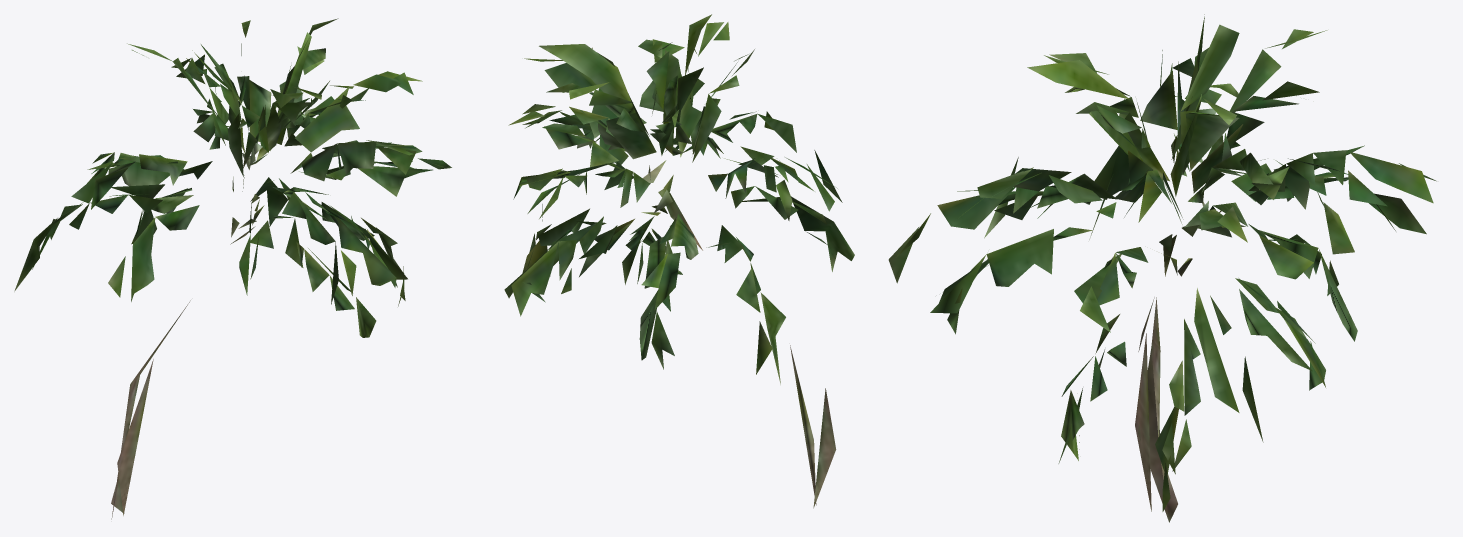
Rendered from kueste_palme_lo.glb.
3 renders of one model, left to right at view 1: azimuth 30°, elevation 25°; view 2: azimuth 150°, elevation 25°; view 3: azimuth 270°, elevation 25°, orthographic. The views are drawn at different scales.
Parts seen in each view (by area): view 1: Prop; view 2: Prop; view 3: Prop.
Boxes of the visible parts, <box> form: Prop: <box>14,18,451,519</box>; Prop: <box>504,14,854,508</box>; Prop: <box>888,14,1436,522</box>.
Size of the model in its own units: 0.84 by 0.976 by 0.869.
Materials: 1 (1 with a texture image).
